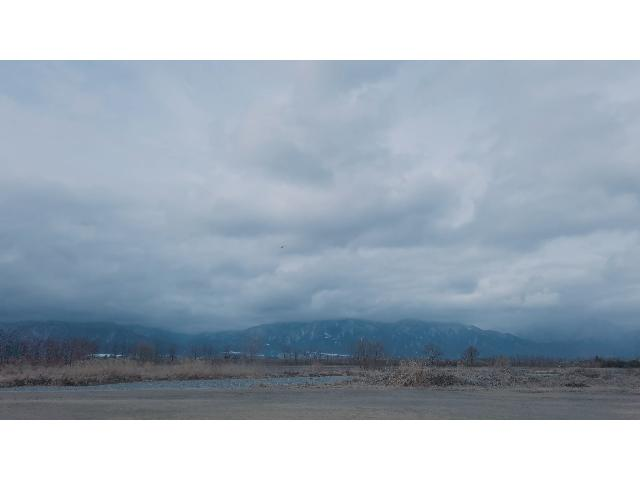Anti-Drone: (279, 243, 287, 250)
